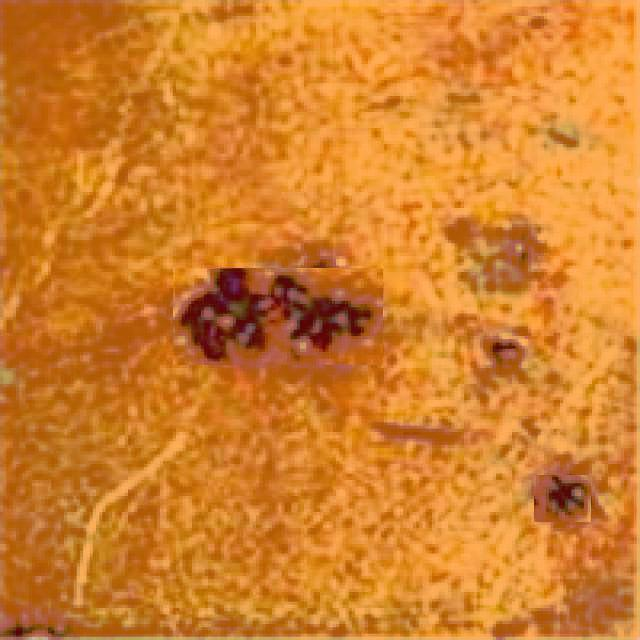Corrosion: (176, 269, 379, 364), (536, 477, 594, 524), (482, 331, 528, 374)
